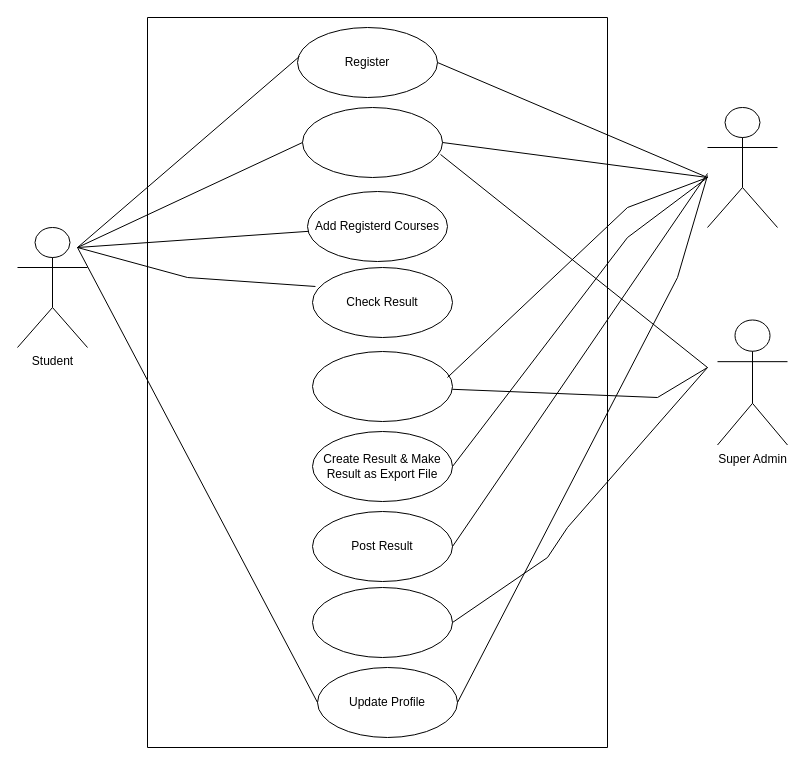
The diagram is 805 pixels wide and 765 high, and some of its shapes have lost their labels. Each missing label, with the centre of its shape:
"Login" goes at (x=372, y=142).
"Offerr Courses" goes at (x=382, y=386).
"Teacher" goes at (x=742, y=167).
"Update User & Teacher Data & Change The Of the Teacher" goes at (x=382, y=622).
